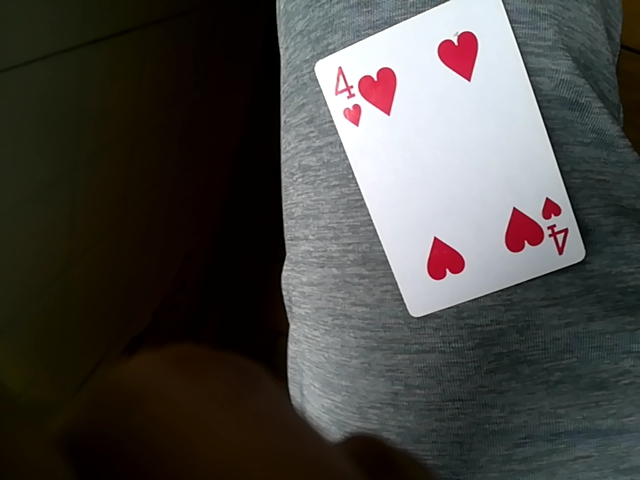hx 4: (313, 4, 588, 320)
